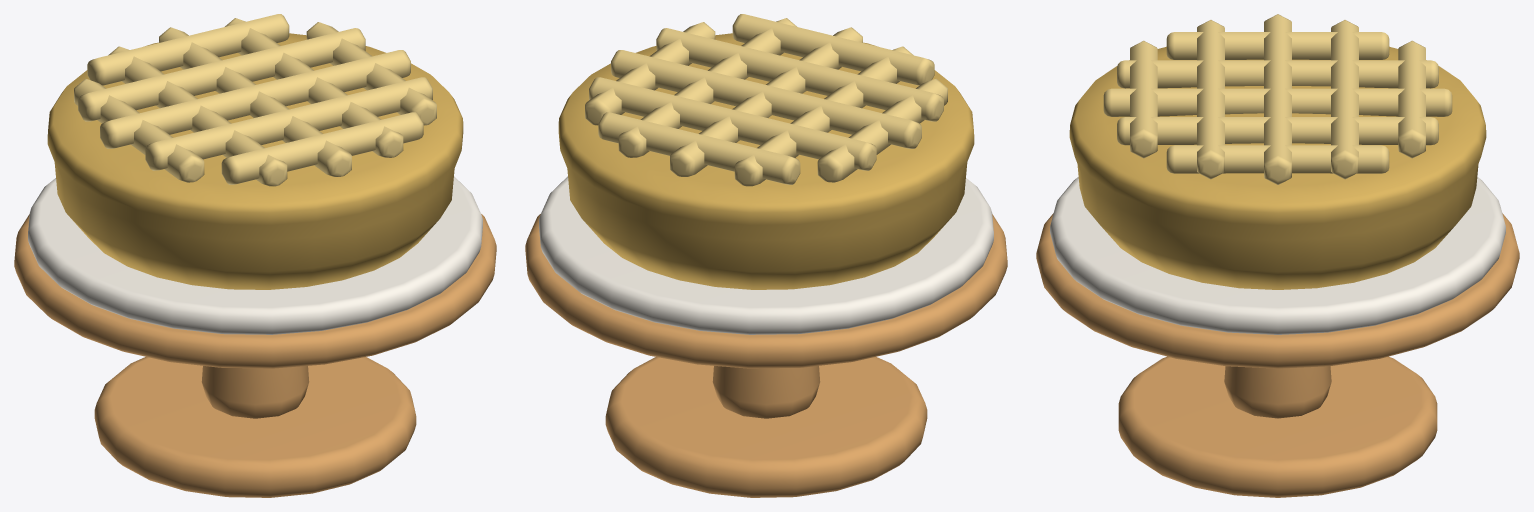
File: apple_pie_plate.glb
3 renders of one model, left to right at view 1: azimuth 30°, elevation 25°; view 2: azimuth 150°, elevation 25°; view 3: azimuth 270°, elevation 25°, orthographic.
Visible parts, largest first — view 1: apple_pie_plate_mesh; view 2: apple_pie_plate_mesh; view 3: apple_pie_plate_mesh.
Part boxes in pixels (bbox=[...]): apple_pie_plate_mesh: bbox=[14, 14, 496, 497]; apple_pie_plate_mesh: bbox=[525, 14, 1007, 497]; apple_pie_plate_mesh: bbox=[1036, 14, 1519, 497].
Size of the model in its own units: 0.36 by 0.288 by 0.36.
